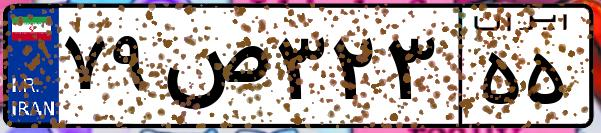2: (330, 28, 385, 110)
3: (270, 28, 330, 110), (385, 28, 445, 110)
5: (475, 38, 525, 113), (525, 38, 570, 115)
7: (57, 26, 110, 100)
9: (110, 28, 158, 98)
ص: (158, 20, 270, 120)
